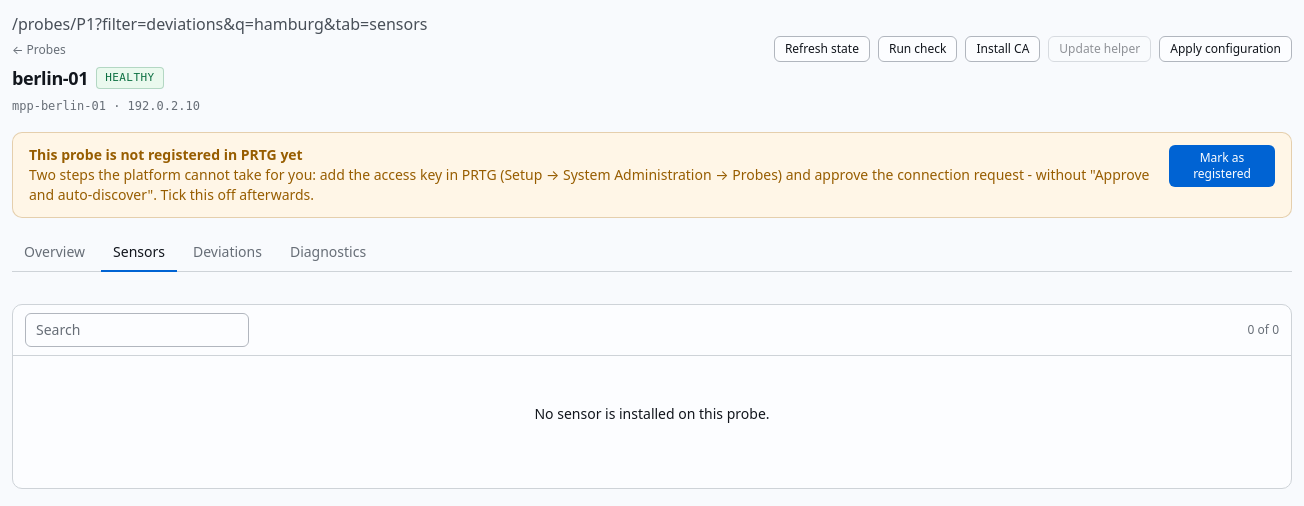
Test case: the way back to the list › carries the filter and the search term the row was opened from
Click the link "← Probes" at (19, 50), box x1=12 y1=41 x2=66 y2=58
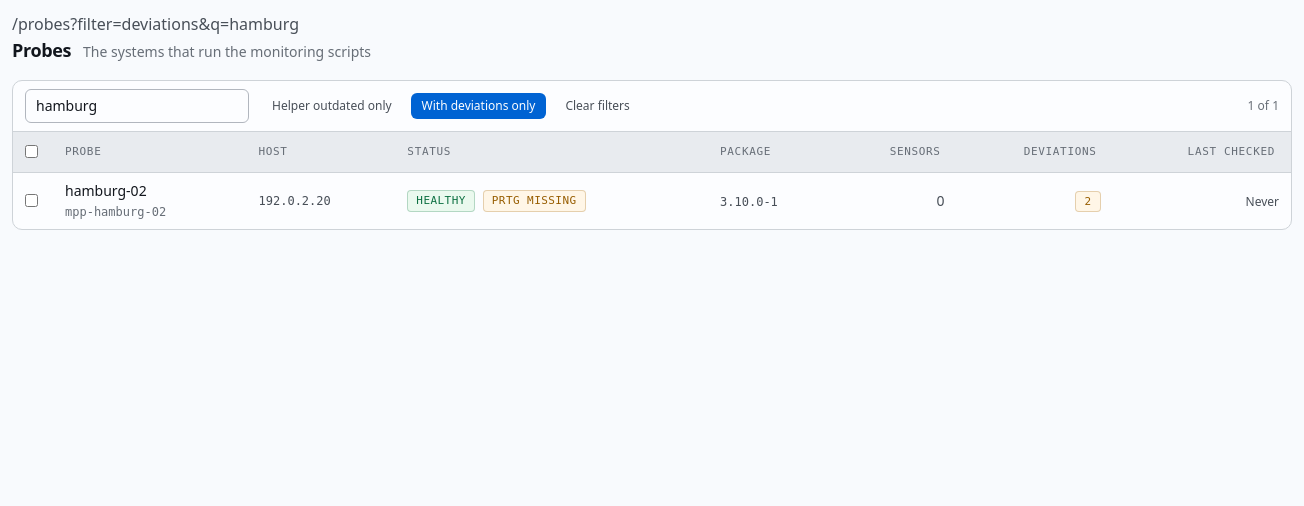
Check: the text with test id "address" reads "/probes?filter=deviations&q=hamburg", box x1=12 y1=13 x2=299 y2=35
